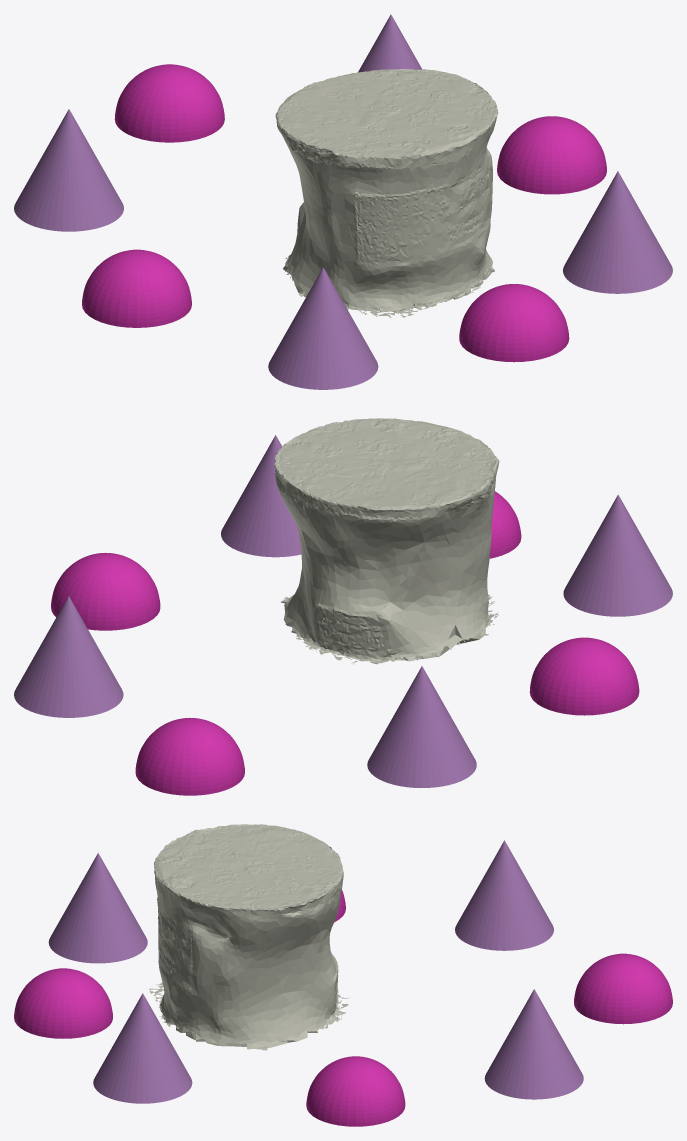
File: tinkercad_candle.glb
The picture shows the model from 3 angles, top to bottom: view 1: azimuth 30°, elevation 25°; view 2: azimuth 150°, elevation 25°; view 3: azimuth 270°, elevation 25°; orthographic projection. The views are drawn at different scales.
Parts seen in each view (by area): view 1: Mesh_Mesh_head_geo.001_lambert2SG.001; view 2: Mesh_Mesh_head_geo.001_lambert2SG.001; view 3: Mesh_Mesh_head_geo.001_lambert2SG.001.
Boxes of the visible parts, box(x1,y1,x2,y2) form: Mesh_Mesh_head_geo.001_lambert2SG.001: box(14, 14, 672, 389); Mesh_Mesh_head_geo.001_lambert2SG.001: box(14, 418, 672, 795); Mesh_Mesh_head_geo.001_lambert2SG.001: box(14, 824, 672, 1126).
Bounding box in the file's own units: 0.114 × 0.0318 × 0.133.
